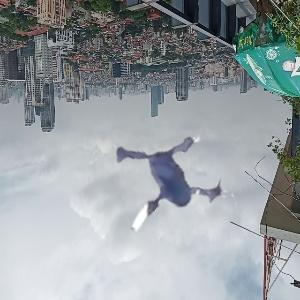drone: (63, 107, 242, 286)
